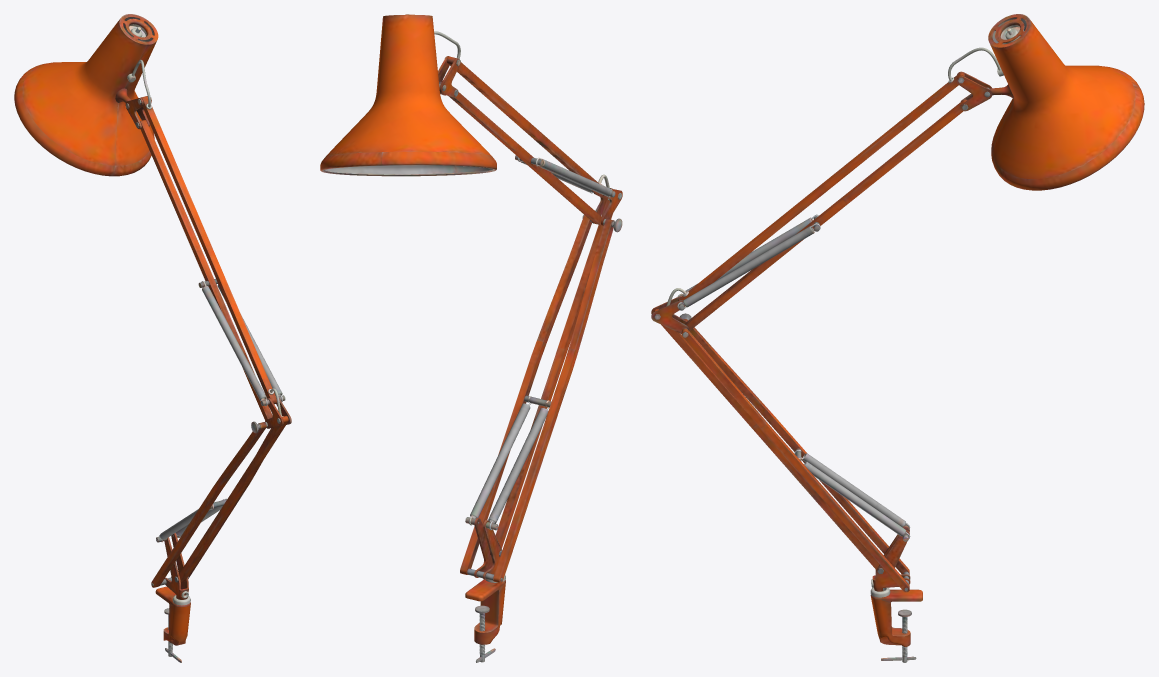
Rendered from arm-lamp.glb.
3 renders of one model, left to right at view 1: azimuth 30°, elevation 25°; view 2: azimuth 150°, elevation 25°; view 3: azimuth 270°, elevation 25°, orthographic. The views are drawn at different scales.
Visible parts, largest first — view 1: Box.001; view 2: Box.001; view 3: Box.001.
Part boxes in pixels (x1,y1,x2,y2): Box.001: [14, 14, 291, 662]; Box.001: [320, 14, 622, 662]; Box.001: [651, 14, 1144, 662].
Size of the model in its own units: 0.2017 by 0.8926 by 0.6139.
Materials: 2 (2 with a texture image).
